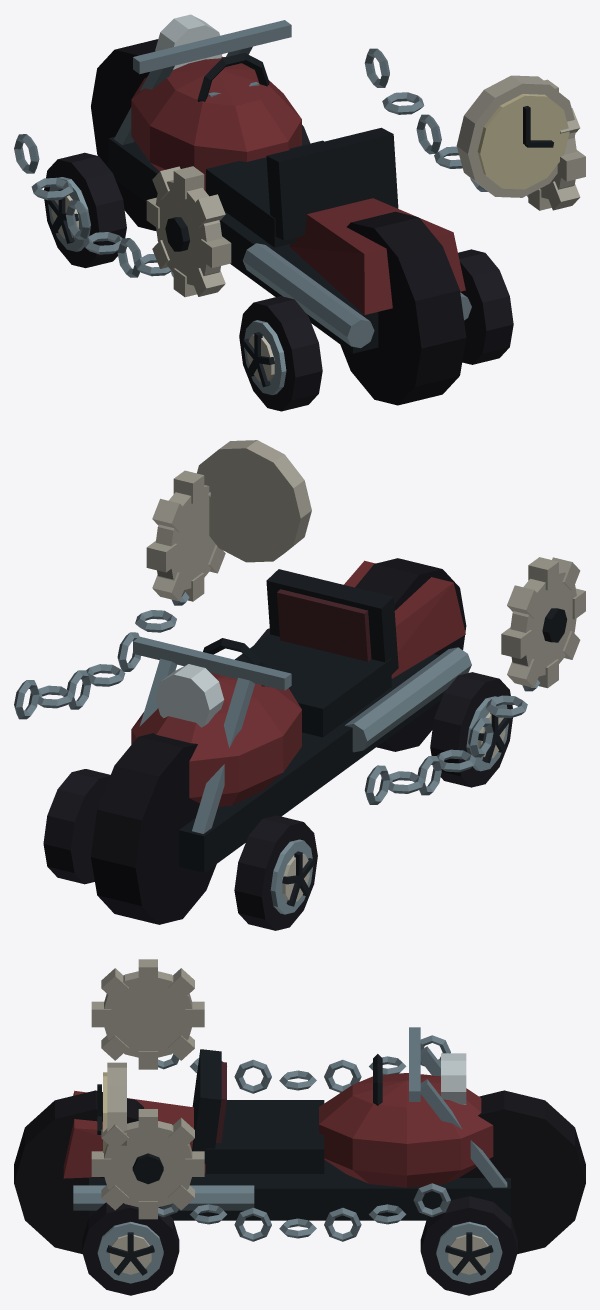
Rendered from kart.glb.
3 views of the same model, one above another, from view 1: azimuth 30°, elevation 25°; view 2: azimuth 150°, elevation 25°; view 3: azimuth 270°, elevation 25° (orthographic). The views are drawn at different scales.
Visible parts, largest first — view 1: identity-motorbike-motorbike-tank-and-fork, identity-motorbike-driver-cockpit, identity-motorbike-motif-clock, identity-motorbike-motif-gears, wheel-rear-left, identity-motorbike-motif-chains, wheel-front-left, wheel-rear-right; view 2: identity-motorbike-motorbike-tank-and-fork, identity-motorbike-driver-cockpit, identity-motorbike-motif-gears, identity-motorbike-motif-clock, identity-motorbike-motif-chains, wheel-front-left, wheel-rear-left, wheel-front-right; view 3: identity-motorbike-motorbike-tank-and-fork, identity-motorbike-motif-gears, identity-motorbike-driver-cockpit, wheel-front-right, wheel-rear-right, identity-motorbike-motif-chains, identity-motorbike-motif-clock.
Part boxes in pixels (x1=…): identity-motorbike-motorbike-tank-and-fork: x1=91, y1=14, x2=471, y2=405; identity-motorbike-driver-cockpit: x1=197, y1=52, x2=398, y2=247; identity-motorbike-motif-clock: x1=456, y1=75, x2=575, y2=197; identity-motorbike-motif-gears: x1=146, y1=79, x2=585, y2=297; wheel-rear-left: x1=239, y1=296, x2=322, y2=411; identity-motorbike-motif-chains: x1=14, y1=48, x2=528, y2=277; wheel-front-left: x1=44, y1=152, x2=126, y2=268; wheel-rear-right: x1=458, y1=249, x2=513, y2=364; identity-motorbike-motorbike-tank-and-fork: x1=91, y1=558, x2=471, y2=924; identity-motorbike-driver-cockpit: x1=203, y1=569, x2=398, y2=737; identity-motorbike-motif-gears: x1=146, y1=470, x2=585, y2=688; identity-motorbike-motif-clock: x1=197, y1=440, x2=311, y2=562; identity-motorbike-motif-chains: x1=14, y1=592, x2=539, y2=804; wheel-front-left: x1=234, y1=815, x2=317, y2=930; wheel-rear-left: x1=430, y1=672, x2=512, y2=787; wheel-front-right: x1=43, y1=769, x2=110, y2=884; identity-motorbike-motorbike-tank-and-fork: x1=14, y1=1027, x2=585, y2=1253; identity-motorbike-motif-gears: x1=91, y1=959, x2=204, y2=1219; identity-motorbike-driver-cockpit: x1=192, y1=1049, x2=382, y2=1173; wheel-front-right: x1=420, y1=1196, x2=517, y2=1295; wheel-rear-right: x1=82, y1=1202, x2=179, y2=1295; identity-motorbike-motif-chains: x1=158, y1=1035, x2=450, y2=1241; identity-motorbike-motif-clock: x1=97, y1=1062, x2=126, y2=1152.
Bounding box in the file's own units: 1.99 × 1.35 × 2.94.
